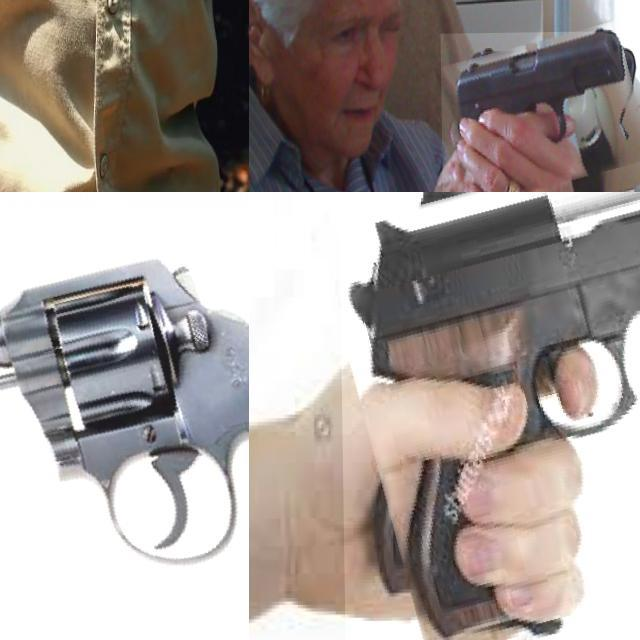gun-knife-thesis - v11 Yolov5 augmented: (338, 192, 640, 640), (0, 208, 249, 640), (439, 32, 640, 192)
